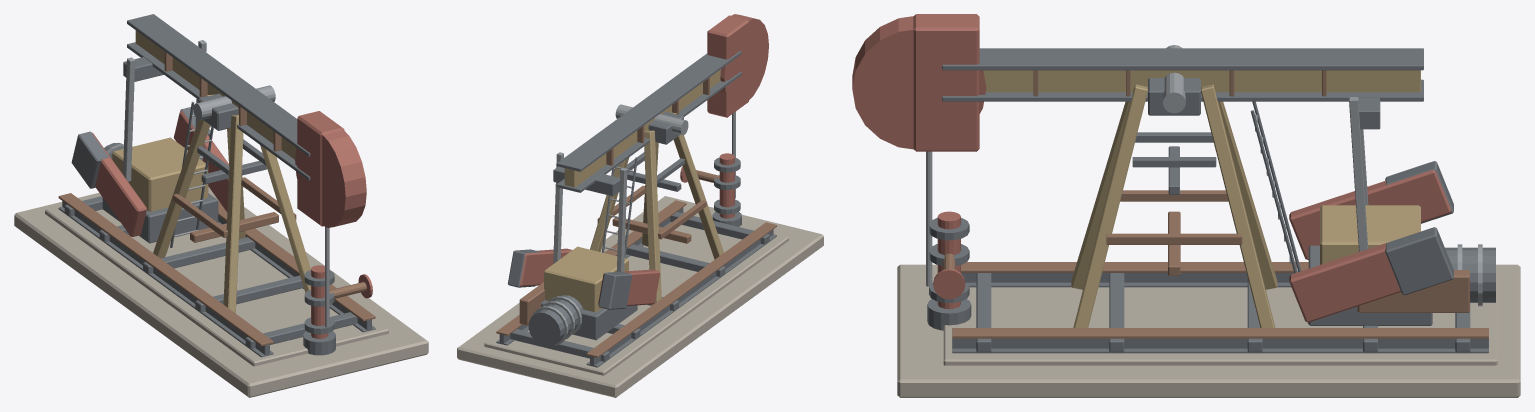
Rendered from oil_pumpjack.glb.
3 renders of one model, left to right at view 1: azimuth 30°, elevation 25°; view 2: azimuth 150°, elevation 25°; view 3: azimuth 270°, elevation 25°, orthographic. The views are drawn at different scales.
Parts seen in each view (by area): view 1: BasePad, BasePadUpper, BeamFlangeTop, GearboxUpper, HorseheadArc, SkidTop_-1.35, HorseheadCore, LegF_-1.2, Crank_-1.28, LegB_-1.2, LegF_1.2, GearboxBase (+23 smaller); view 2: BasePad, BasePadUpper, BeamFlangeTop, GearboxUpper, HorseheadCore, SkidTop_-1.35, LegB_-1.2, DriveMotor, HorseheadArc, BeamWeb, LegF_-1.2, BeamFlangeBot (+22 smaller); view 3: BasePad, BasePadUpper, BeamFlangeTop, HorseheadCore, BeamWeb, HorseheadArc, SkidTop_1.35, Crank_1.28, SkidWeb_1.35, Crank_-1.28, GearboxUpper, LegF_1.2 (+32 smaller).
Boxes of the visible parts, left/top/right/bottom form: BasePad: left=14, top=186, right=428, bottom=397; BasePadUpper: left=45, top=196, right=388, bottom=366; BeamFlangeTop: left=127, top=14, right=310, bottom=156; GearboxUpper: left=112, top=137, right=208, bottom=211; HorseheadArc: left=295, top=130, right=366, bottom=227; SkidTop_-1.35: left=58, top=193, right=273, bottom=346; HorseheadCore: left=297, top=111, right=344, bottom=226; LegF_-1.2: left=223, top=114, right=243, bottom=313; Crank_-1.28: left=92, top=132, right=146, bottom=236; LegB_-1.2: left=153, top=94, right=213, bottom=258; LegF_1.2: left=260, top=145, right=310, bottom=292; GearboxBase: left=102, top=193, right=218, bottom=243; BasePad: left=457, top=196, right=823, bottom=397; BasePadUpper: left=484, top=211, right=788, bottom=375; BeamFlangeTop: left=556, top=51, right=741, bottom=171; GearboxUpper: left=544, top=246, right=628, bottom=312; HorseheadCore: left=707, top=15, right=748, bottom=117; SkidTop_-1.35: left=586, top=222, right=776, bottom=357; LegB_-1.2: left=644, top=130, right=661, bottom=305; DriveMotor: left=528, top=295, right=583, bottom=346; HorseheadArc: left=719, top=14, right=768, bottom=99; BeamWeb: left=564, top=69, right=720, bottom=187; LegF_-1.2: left=671, top=112, right=724, bottom=259; BeamFlangeBot: left=556, top=72, right=741, bottom=192; BasePad: left=897, top=264, right=1520, bottom=397; BasePadUpper: left=943, top=273, right=1497, bottom=365; BeamFlangeTop: left=942, top=48, right=1423, bottom=70; HorseheadCore: left=913, top=14, right=979, bottom=151; BeamWeb: left=983, top=70, right=1420, bottom=92; HorseheadArc: left=852, top=16, right=986, bottom=149; SkidTop_1.35: left=952, top=328, right=1488, bottom=338; Crank_1.28: left=1289, top=243, right=1400, bottom=322; SkidWeb_1.35: left=952, top=338, right=1488, bottom=348; Crank_-1.28: left=1289, top=169, right=1451, bottom=260; GearboxUpper: left=1320, top=205, right=1420, bottom=264; LegF_1.2: left=1073, top=84, right=1147, bottom=327.
Size of the model in its own units: 4.8 by 6.12 by 11.58.
